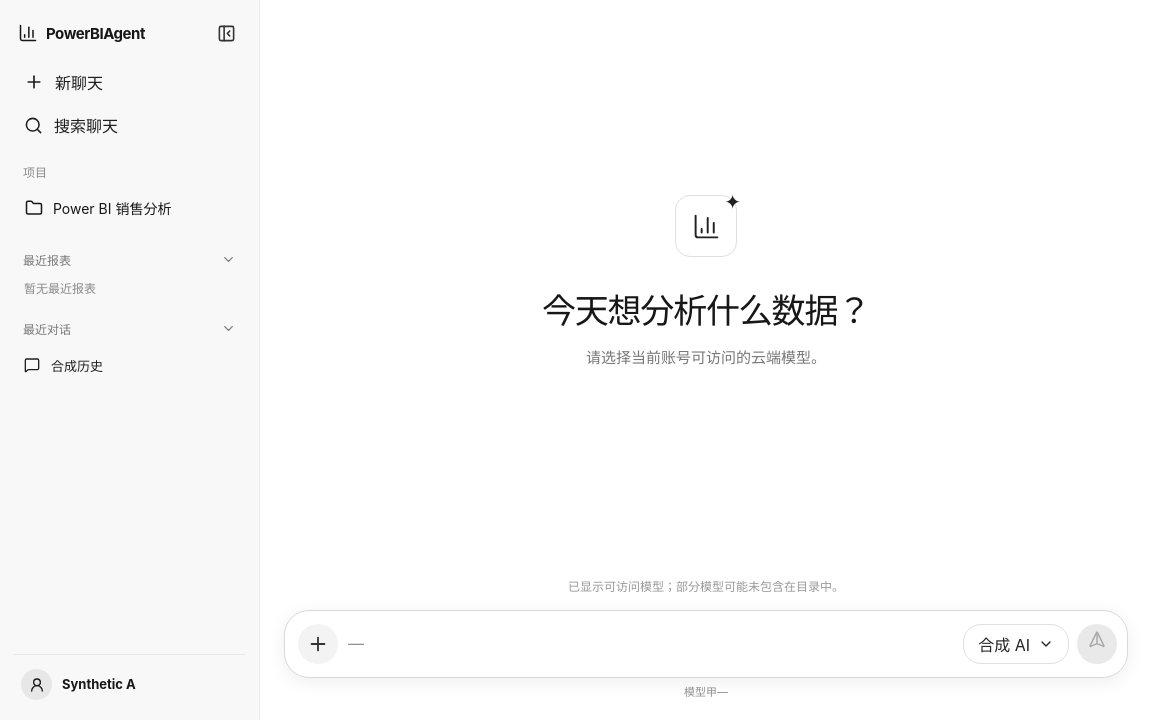
Synthetic Cloud product wiring › restores only server-authorized history and starts fresh conversation with retained model
What coordinates should you click on to do the following:
click the button "合成历史"
I would click on:
 (114, 365)
Its box is [14,347,215,383].
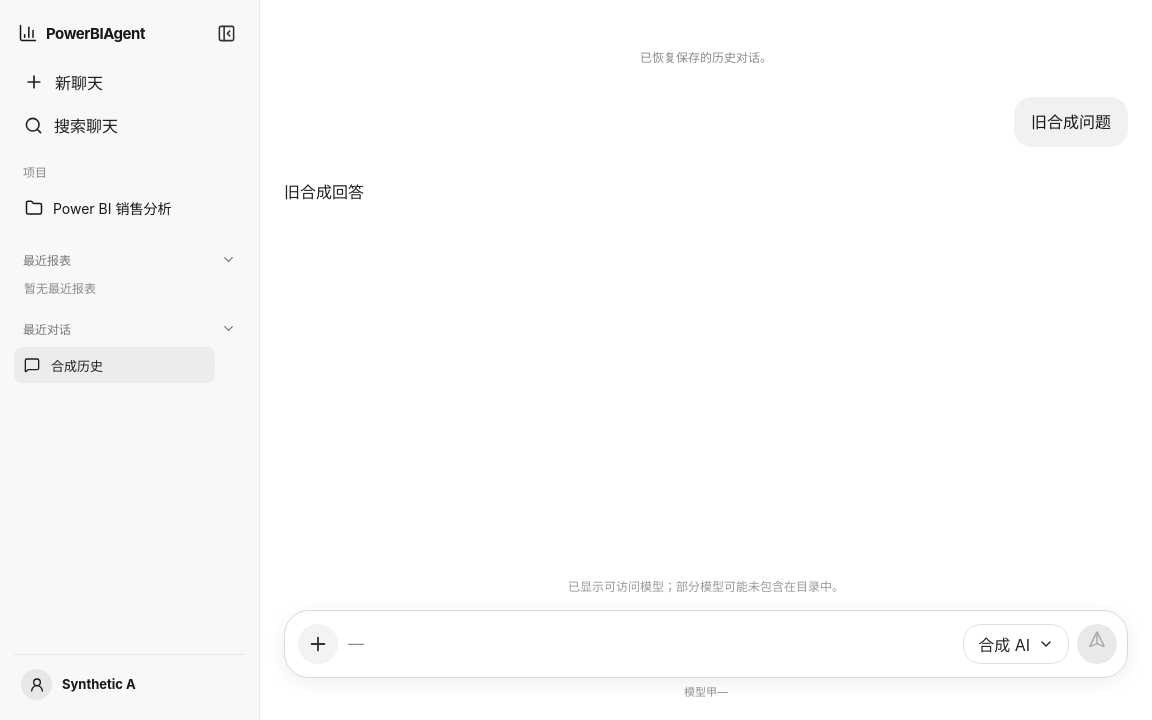
Result: the text "旧合成回答" is shown at [284,182,364,202]
What coordinates should you click on to do the following:
click the button "新聊天"
I would click on:
 (130, 82)
Its box is [14,62,245,102].
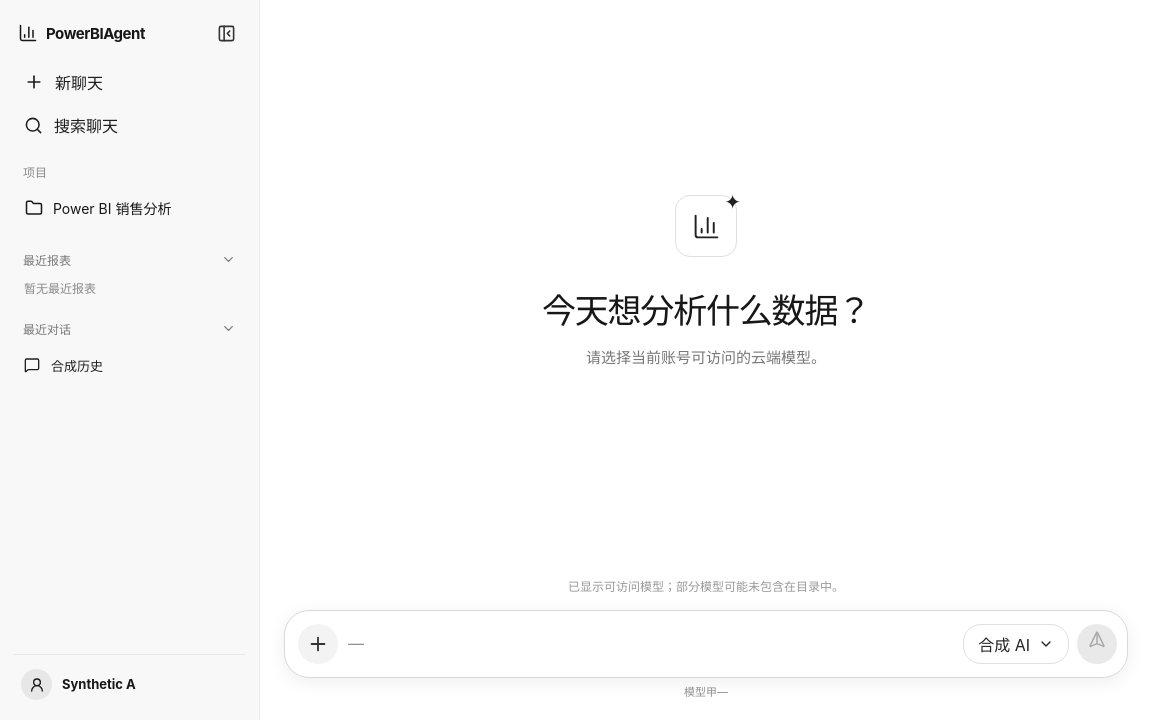
Expected: the text "模型甲" is shown, [684,684,717,698]
Result: the text "旧合成回答" is gone
